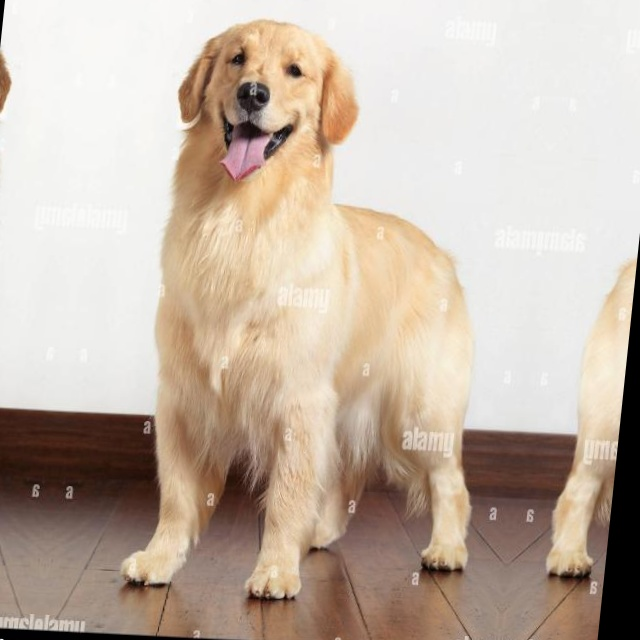dog: (85, 0, 562, 640), (499, 14, 640, 640), (0, 0, 56, 625)
